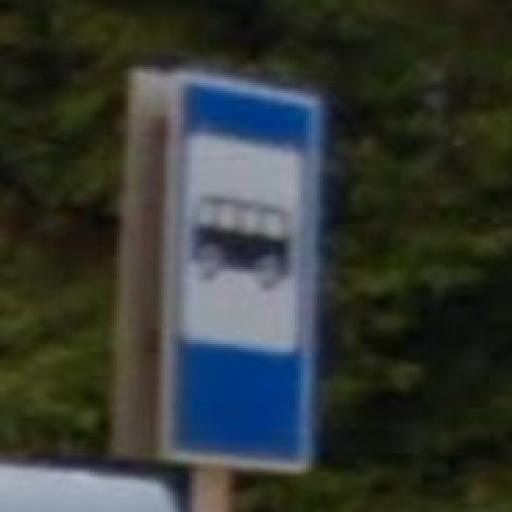traffic_sign: (157, 68, 326, 477)
